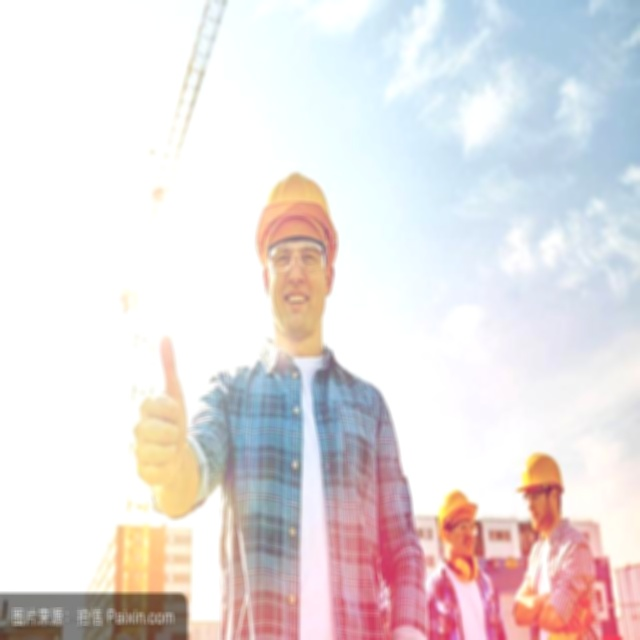Con_Casco: (257, 173, 339, 335), (521, 451, 564, 525)
Sin_Chaleco: (211, 340, 393, 616)
